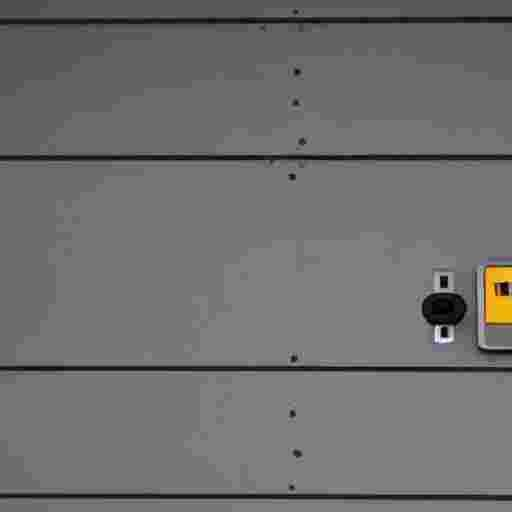power outlet: (477, 257, 511, 349)
